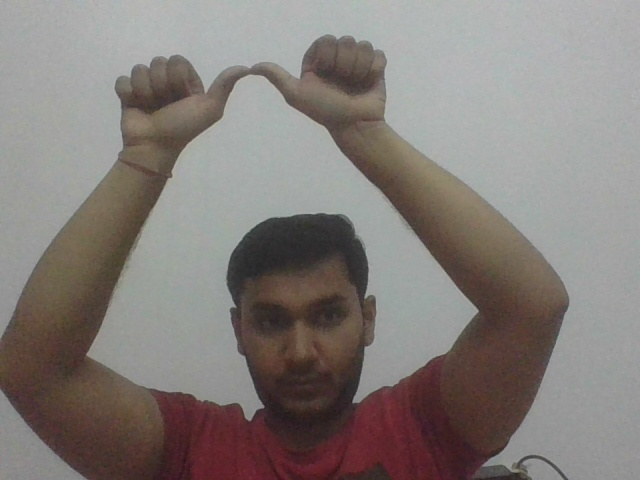A: (102, 34, 399, 130)
